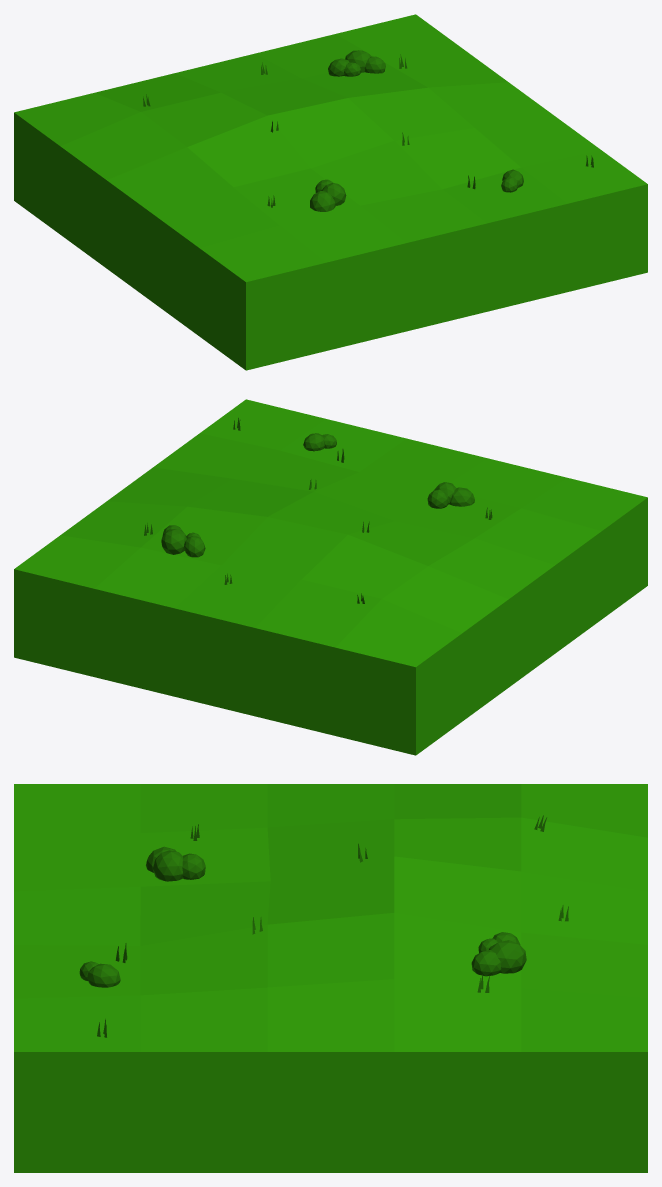
The model's file is dune_001.fbx.
3 renders of one model, top to bottom at view 1: azimuth 30°, elevation 25°; view 2: azimuth 150°, elevation 25°; view 3: azimuth 270°, elevation 25°, orthographic. The views are drawn at different scales.
Parts seen in each view (by area): view 1: Cube; view 2: Cube, Icosphere.008; view 3: Cube, Icosphere.008, Icosphere.003, Icosphere.001, Icosphere.007.
Part boxes in pixels (left/top/right/bottom): Cube: left=14, top=14, right=647, bottom=370; Cube: left=14, top=399, right=647, bottom=755; Icosphere.008: left=161, top=529, right=186, bottom=554; Cube: left=14, top=784, right=647, bottom=1172; Icosphere.008: left=489, top=940, right=526, bottom=973; Icosphere.003: left=153, top=850, right=182, bottom=881; Icosphere.001: left=87, top=963, right=120, bottom=987; Icosphere.007: left=471, top=950, right=501, bottom=976.
Bounding box in the file's own units: 200 × 56.72 × 200.
